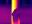Hotspot: (11, 0, 17, 15)
